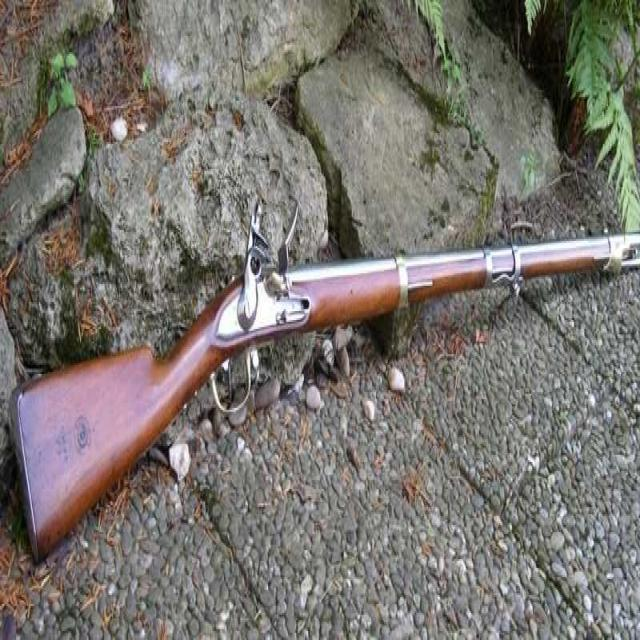heavyweapon: (14, 201, 640, 560)
